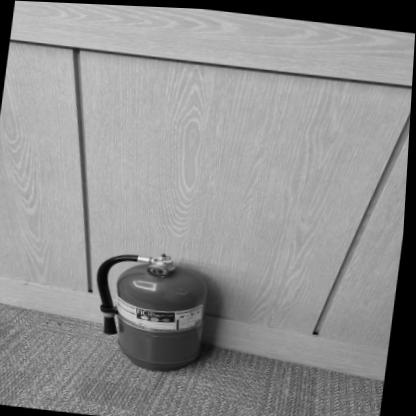FE: (88, 248, 217, 374)
